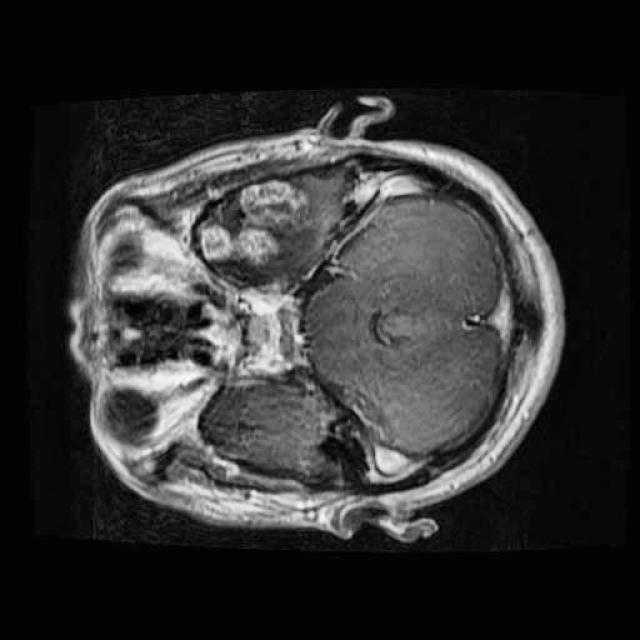Tumor: (184, 170, 318, 274)
